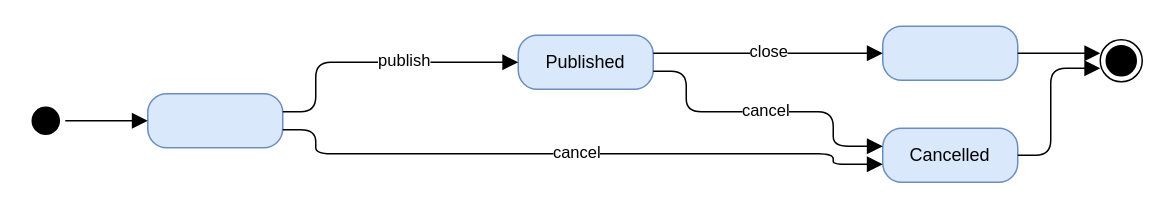
Some shapes in this 1169 by 209 pixel diagram are drawn without their labels. Each missing label, with the centre of its shape:
"Completed" belongs at point 949,52.
"Draft" belongs at point 214,120.
